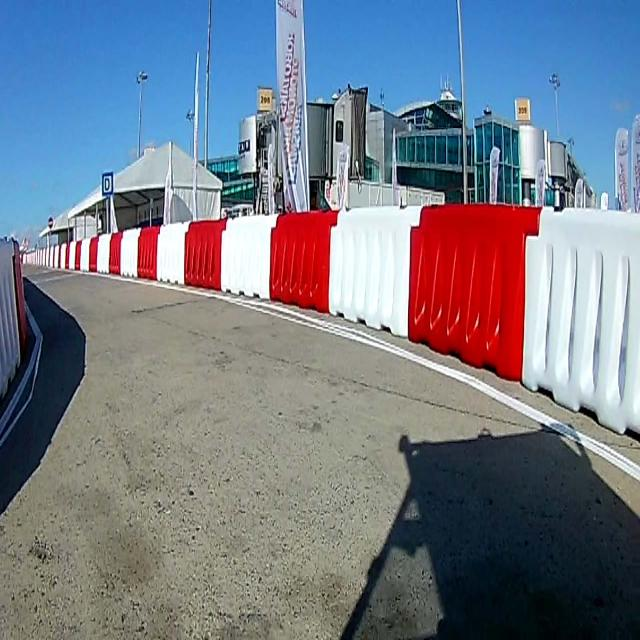durak: (100, 170, 114, 197)
